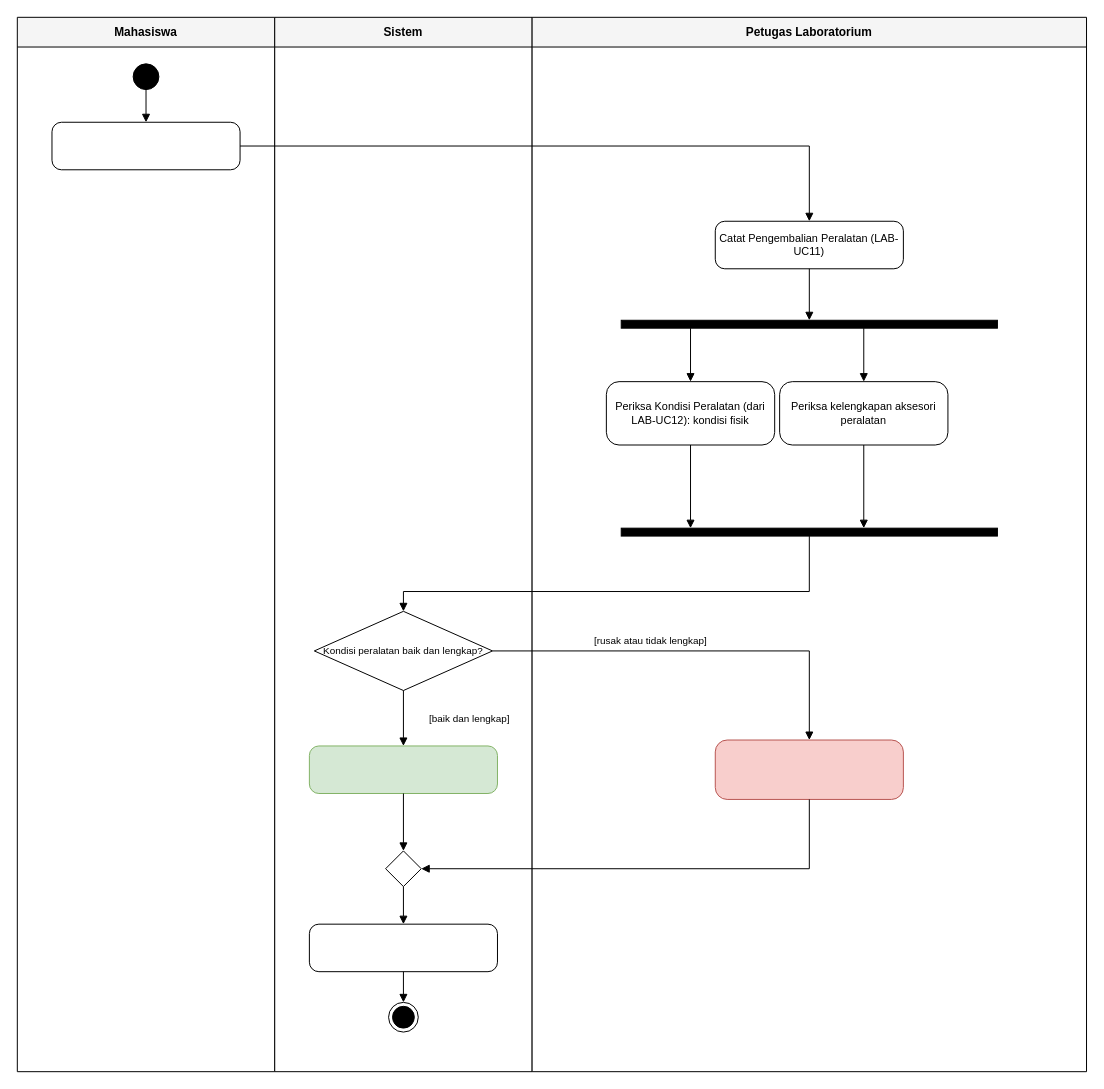
Some shapes in this 1104 by 1089 pixel diagram are drawn without their labels. The centre of each missing label's shape, as x and y in pixels:
Catat kerusakan atau kekurangan dan jadwalkan perbaikan: (x=808, y=769)
Menutup transaksi peminjaman: (x=402, y=947)
Menyerahkan peralatan yang dipinjam: (x=145, y=145)
Perbarui status peralatan menjadi tersedia: (x=402, y=769)
